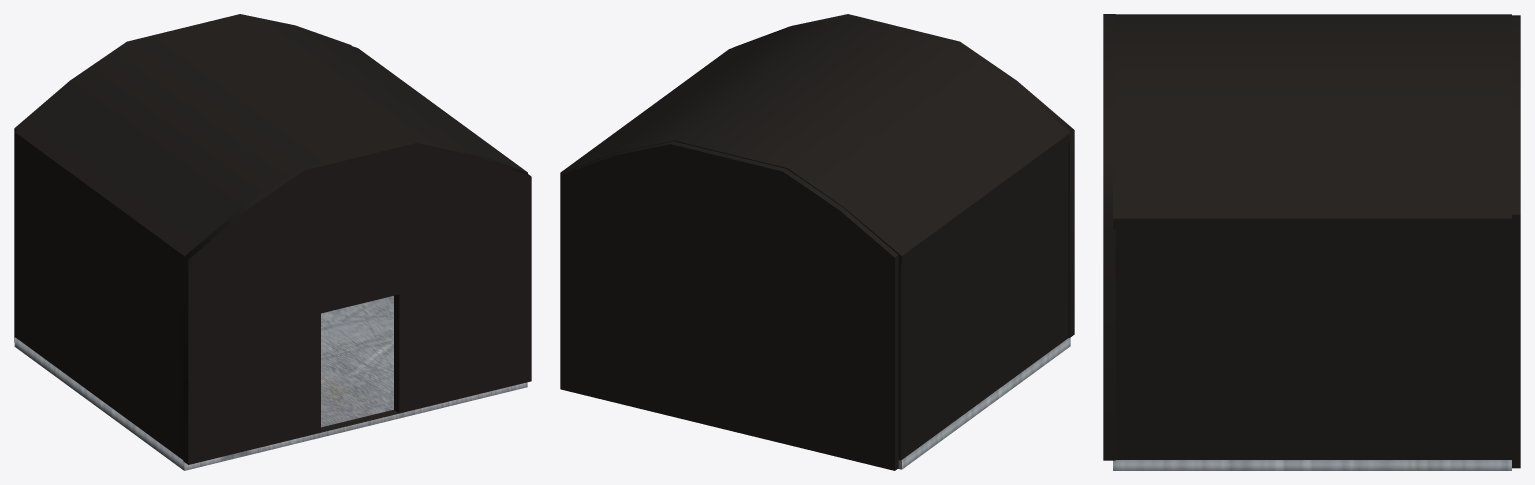
Rendered from Locomotive_Room.fbx.
3 renders of one model, left to right at view 1: azimuth 30°, elevation 25°; view 2: azimuth 150°, elevation 25°; view 3: azimuth 270°, elevation 25°, orthographic. The views are drawn at different scales.
Visible parts, largest first — view 1: EngineRoom; view 2: EngineRoom; view 3: EngineRoom.
Boxes of the visible parts, x1=… form: EngineRoom: x1=14, y1=14, x2=531, y2=470; EngineRoom: x1=560, y1=14, x2=1074, y2=470; EngineRoom: x1=1103, y1=14, x2=1520, y2=470.
Bounding box in the file's own units: 12.01 × 9.2 × 10.75.
